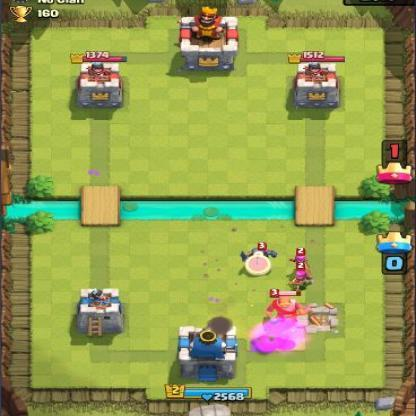enemy_archer: (287, 262, 316, 294), (287, 246, 313, 274)
enemy_knight: (262, 288, 310, 326)
enemy_mini_pekka: (239, 240, 279, 278)
